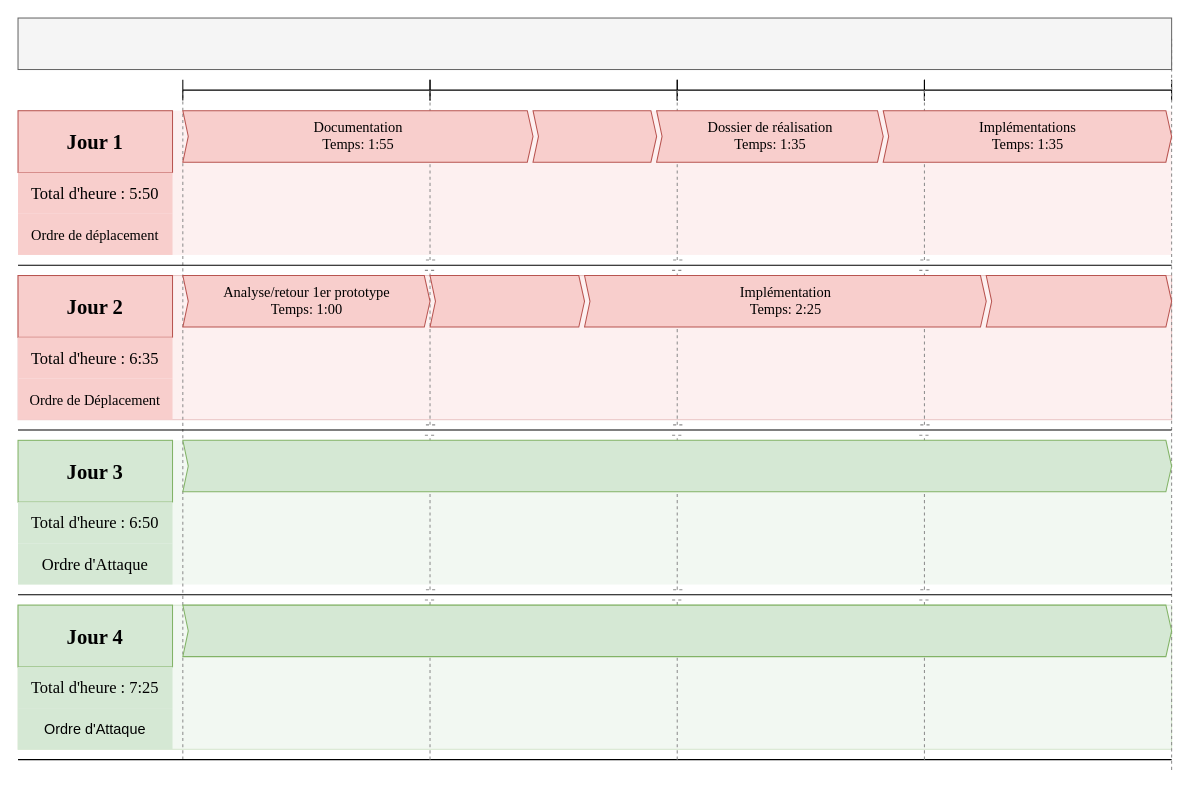
Some shapes in this 1191 by 789 pixel diagram are drawn without their labels. Each missing label, with the centre of its shape:
"2eme prototype Temps: 2:00" goes at point (507, 300).
"Documentation Temps: 1:10" goes at point (1078, 300).
"Documentation Temps: 6:50" goes at point (677, 465).
"Documentation Temps: 7:25" goes at point (677, 630).
"Semaine 4 (23.05.2022 - 26.05.2022): Intelligence Artificielle" goes at point (594, 43).
"Test Temps: 0:30" goes at point (594, 136).
